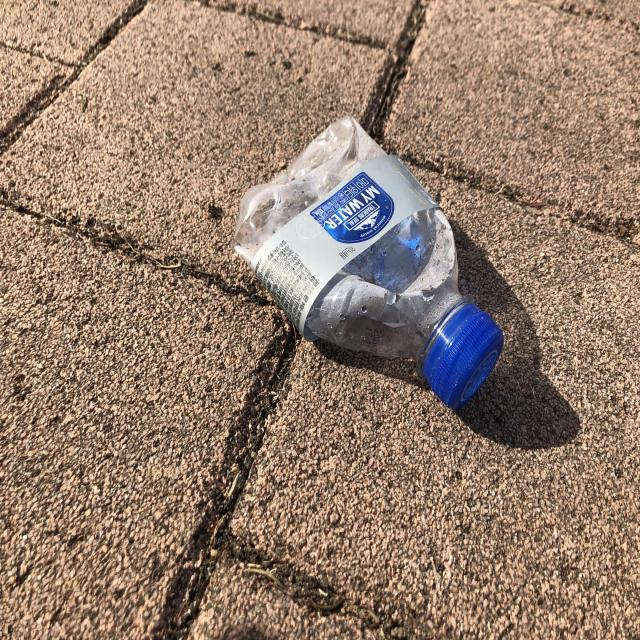plastic: (233, 115, 504, 410)
